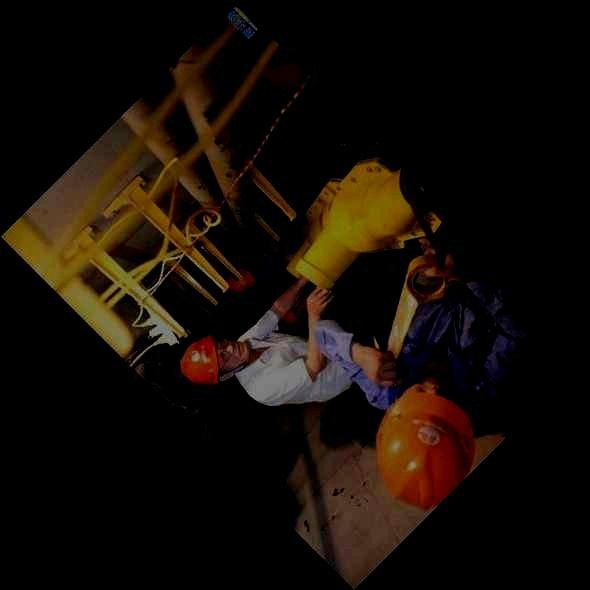helmet: (375, 375, 475, 512), (179, 334, 249, 386)
